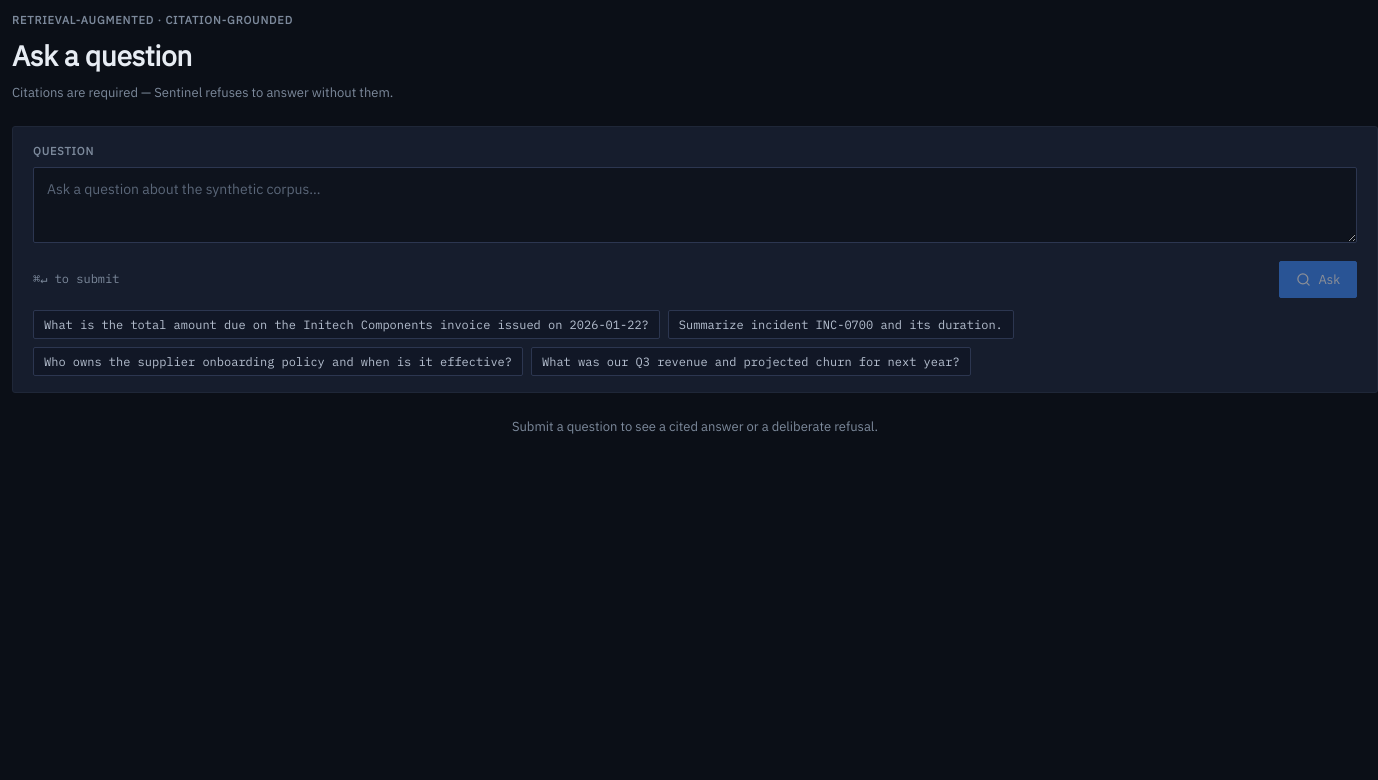
Scenario: Query view › shows the deliberate refusal when the API returns refused
The image size is (1378, 780).
In the text box: (695, 204) [33,166,1357,242], type "Anything?"
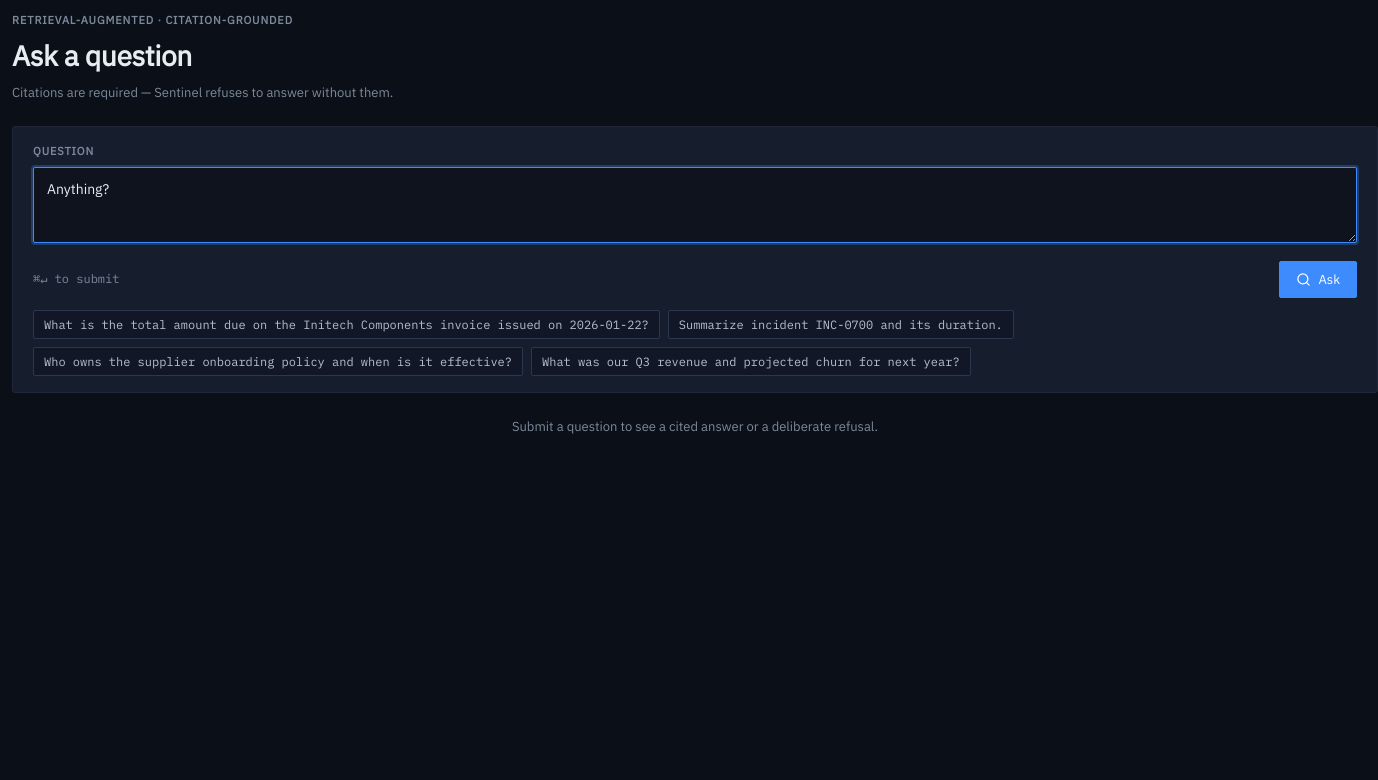
Click the button "Ask": click(1318, 279) [1280,260,1357,298]
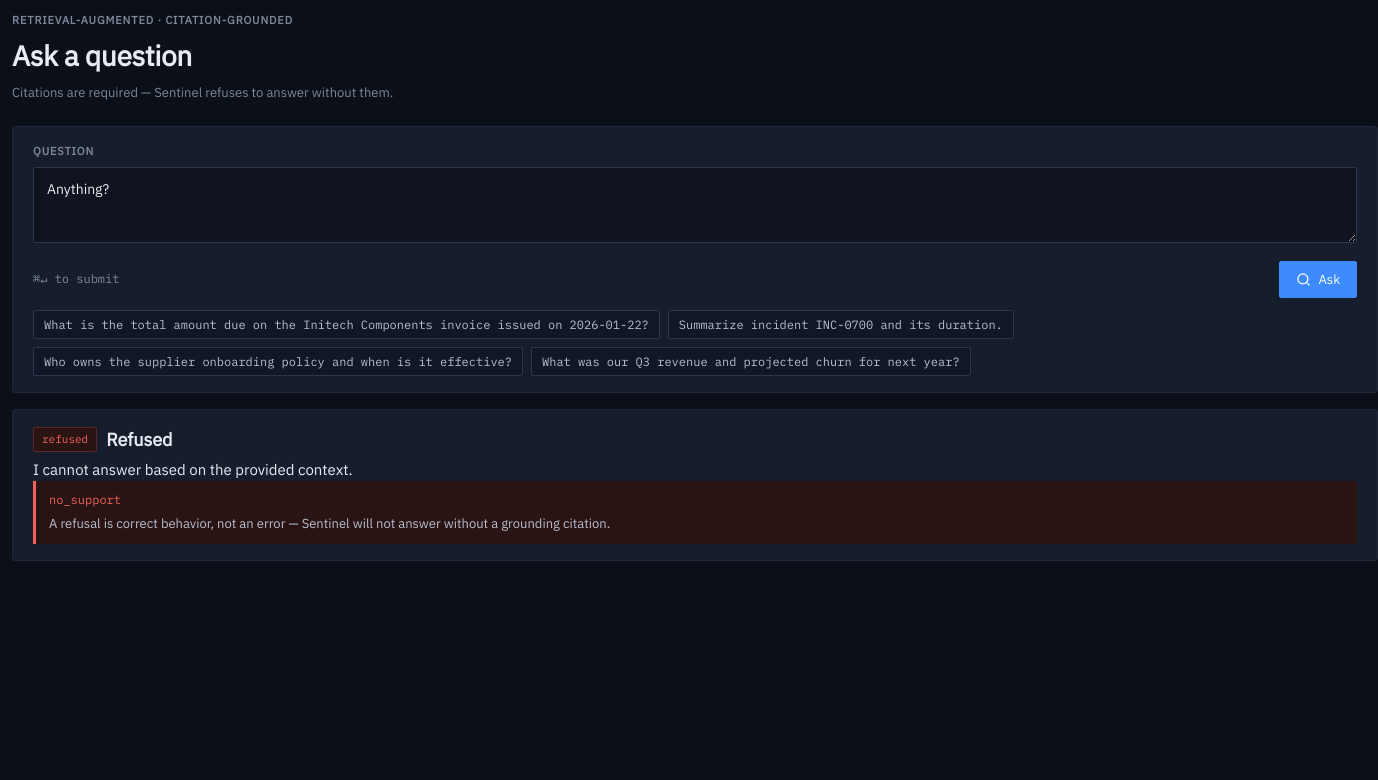
expect the heading "refused Refused" is shown: met, box [33,427,172,452]
expect the text "no_support" is shown: met, box [49,492,121,507]
